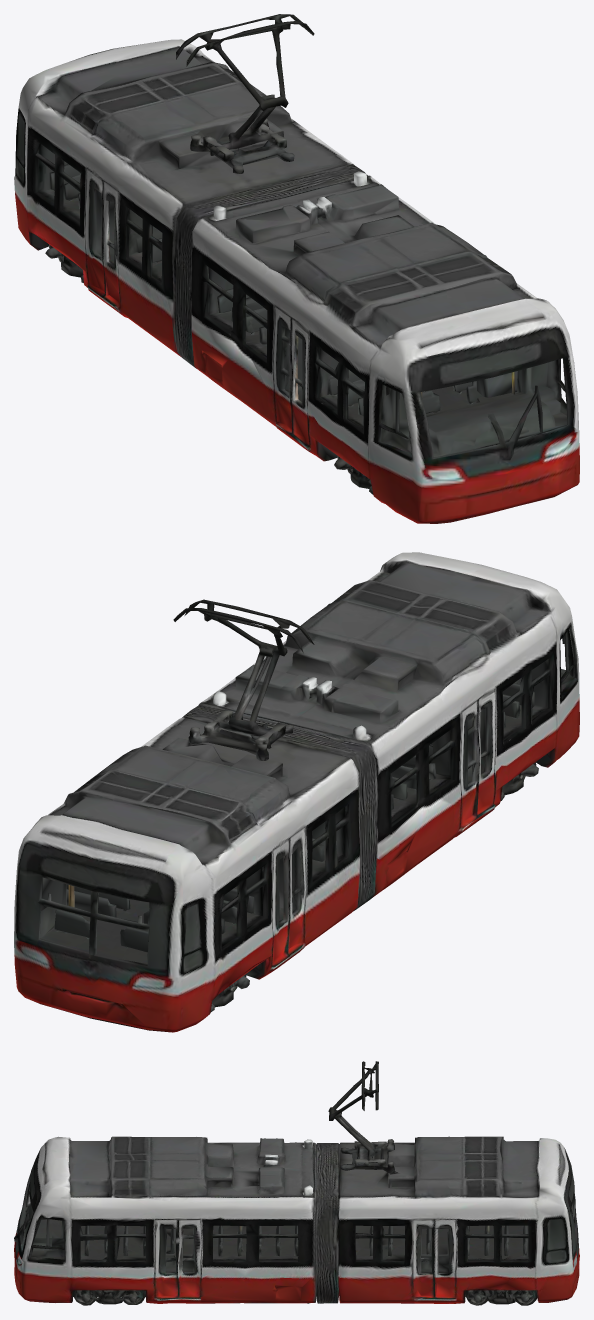
Rendered from ctrain.glb.
The picture shows the model from 3 angles, top to bottom: view 1: azimuth 30°, elevation 25°; view 2: azimuth 150°, elevation 25°; view 3: azimuth 270°, elevation 25°; orthographic projection. The views are drawn at different scales.
Visible parts, largest first — view 1: tripo_node_11e9fe8d-4d10-4f02-a74d-5cd328c50bb8; view 2: tripo_node_11e9fe8d-4d10-4f02-a74d-5cd328c50bb8; view 3: tripo_node_11e9fe8d-4d10-4f02-a74d-5cd328c50bb8.
Boxes of the visible parts, x1,y1,x2,y2 form: tripo_node_11e9fe8d-4d10-4f02-a74d-5cd328c50bb8: (14,14,579,523); tripo_node_11e9fe8d-4d10-4f02-a74d-5cd328c50bb8: (14,552,579,1032); tripo_node_11e9fe8d-4d10-4f02-a74d-5cd328c50bb8: (14,1061,579,1305).
Size of the model in its own units: 0.2627 by 0.4074 by 1.
Materials: 1 (1 with a texture image).
